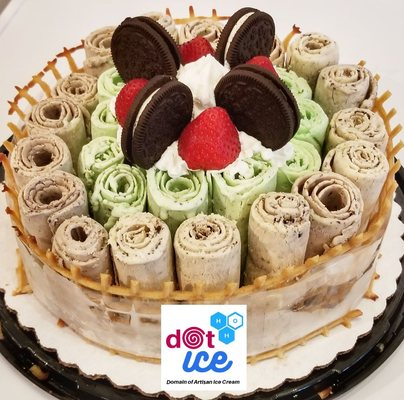sushi: (173, 213, 242, 296)
